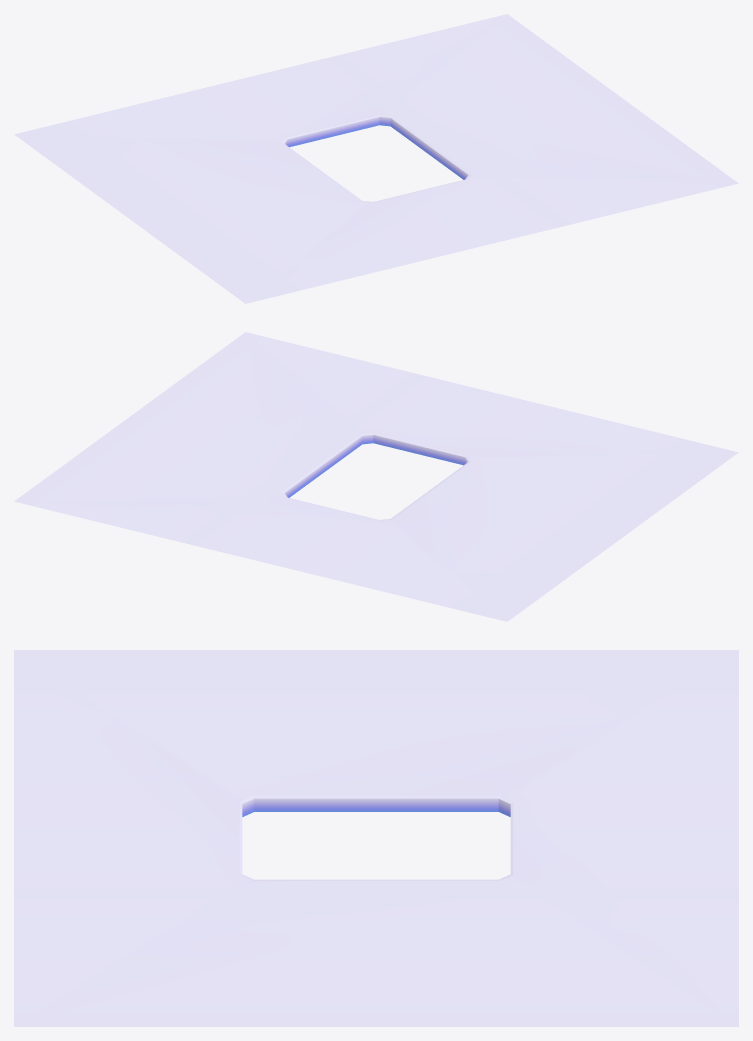
The model's file is board.glb.
3 renders of one model, top to bottom at view 1: azimuth 30°, elevation 25°; view 2: azimuth 150°, elevation 25°; view 3: azimuth 270°, elevation 25°, orthographic. The views are drawn at different scales.
Visible parts, largest first — view 1: Cube.001; view 2: Cube.001; view 3: Cube.001.
Boxes of the visible parts, left/top/right/bottom form: Cube.001: left=14, top=14, right=738, bottom=303; Cube.001: left=14, top=332, right=738, bottom=621; Cube.001: left=14, top=650, right=738, bottom=1026.
Bounding box in the file's own units: 23.28 × 0.4 × 18.92.
Materials: 1 (1 with a texture image).
